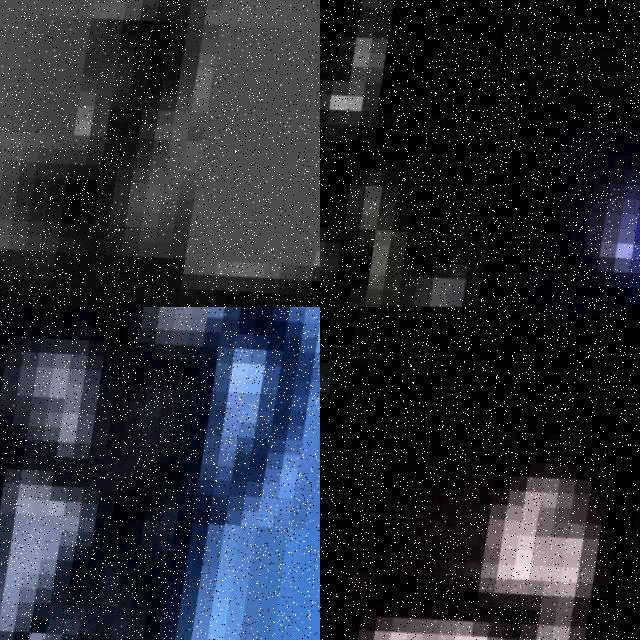drone: (0, 307, 320, 640), (320, 307, 640, 640), (0, 0, 320, 307), (320, 0, 640, 307)
